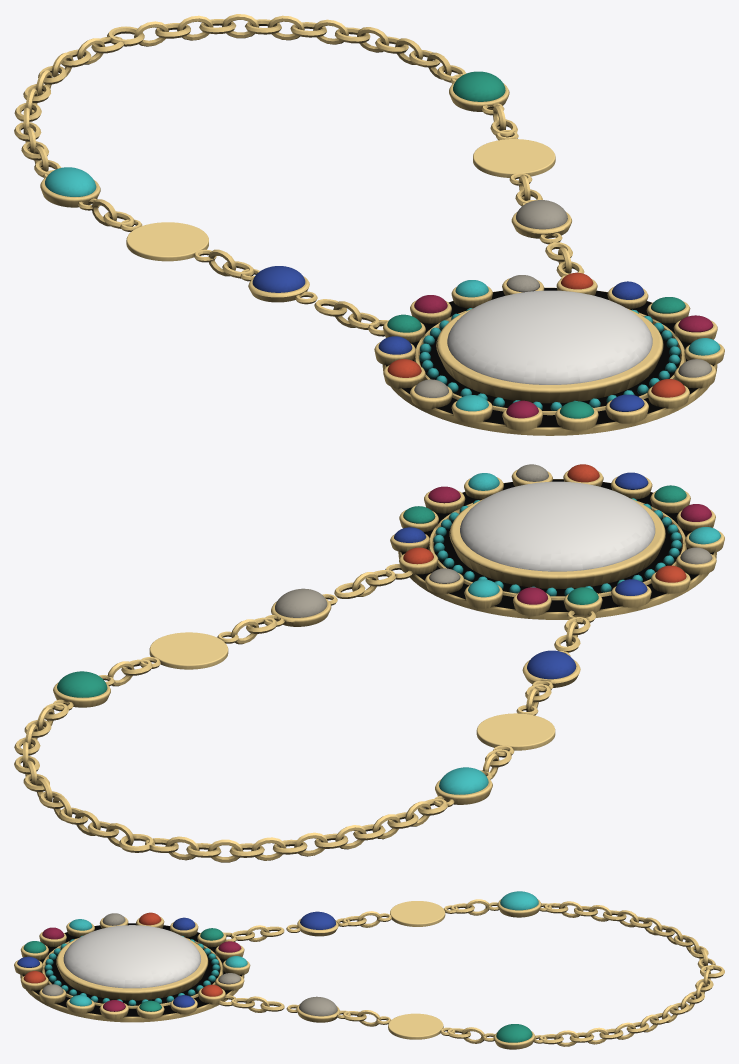
File: pendant.glb
3 renders of one model, top to bottom at view 1: azimuth 30°, elevation 25°; view 2: azimuth 150°, elevation 25°; view 3: azimuth 270°, elevation 25°, orthographic. The views are drawn at different scales.
Parts seen in each view (by area): view 1: pendant_gold, pendant_mop, pendant_coin_gold, pendant_st_turquoise, pendant_st_malachite, pendant_st_smoke, pendant_st_lapis, pendant_st_carnelian, pendant_st_garnet; view 2: pendant_gold, pendant_mop, pendant_coin_gold, pendant_st_turquoise, pendant_st_smoke, pendant_st_lapis, pendant_st_malachite, pendant_st_garnet, pendant_st_carnelian; view 3: pendant_gold, pendant_mop, pendant_coin_gold, pendant_st_turquoise, pendant_st_smoke, pendant_st_malachite, pendant_st_lapis, pendant_st_carnelian, pendant_st_garnet.
Part boxes in pixels (bbox=[...]): pendant_gold: bbox=[14, 14, 724, 435]; pendant_mop: bbox=[447, 290, 652, 384]; pendant_coin_gold: bbox=[126, 139, 555, 261]; pendant_st_turquoise: bbox=[45, 167, 720, 411]; pendant_st_malachite: bbox=[387, 71, 685, 418]; pendant_st_smoke: bbox=[414, 200, 711, 397]; pendant_st_lapis: bbox=[252, 266, 644, 411]; pendant_st_carnelian: bbox=[387, 272, 685, 397]; pendant_st_garnet: bbox=[414, 295, 713, 418]; pendant_gold: bbox=[14, 469, 724, 862]; pendant_mop: bbox=[460, 481, 655, 571]; pendant_coin_gold: bbox=[149, 632, 555, 750]; pendant_st_turquoise: bbox=[433, 473, 720, 794]; pendant_st_smoke: bbox=[275, 464, 712, 617]; pendant_st_lapis: bbox=[394, 472, 648, 679]; pendant_st_malachite: bbox=[57, 485, 686, 697]; pendant_st_garnet: bbox=[428, 486, 711, 604]; pendant_st_carnelian: bbox=[403, 464, 686, 582]; pendant_gold: bbox=[14, 899, 724, 1049]; pendant_mop: bbox=[63, 925, 200, 988]; pendant_coin_gold: bbox=[388, 901, 445, 1039]; pendant_st_turquoise: bbox=[44, 891, 538, 1006]; pendant_st_smoke: bbox=[42, 913, 337, 1016]; pendant_st_malachite: bbox=[23, 928, 532, 1042]; pendant_st_lapis: bbox=[17, 911, 335, 1007]; pendant_st_carnelian: bbox=[23, 912, 222, 996]; pendant_st_garnet: bbox=[42, 927, 241, 1011].
Bounding box in the file's own units: 5.1 × 0.5973 × 10.27.
